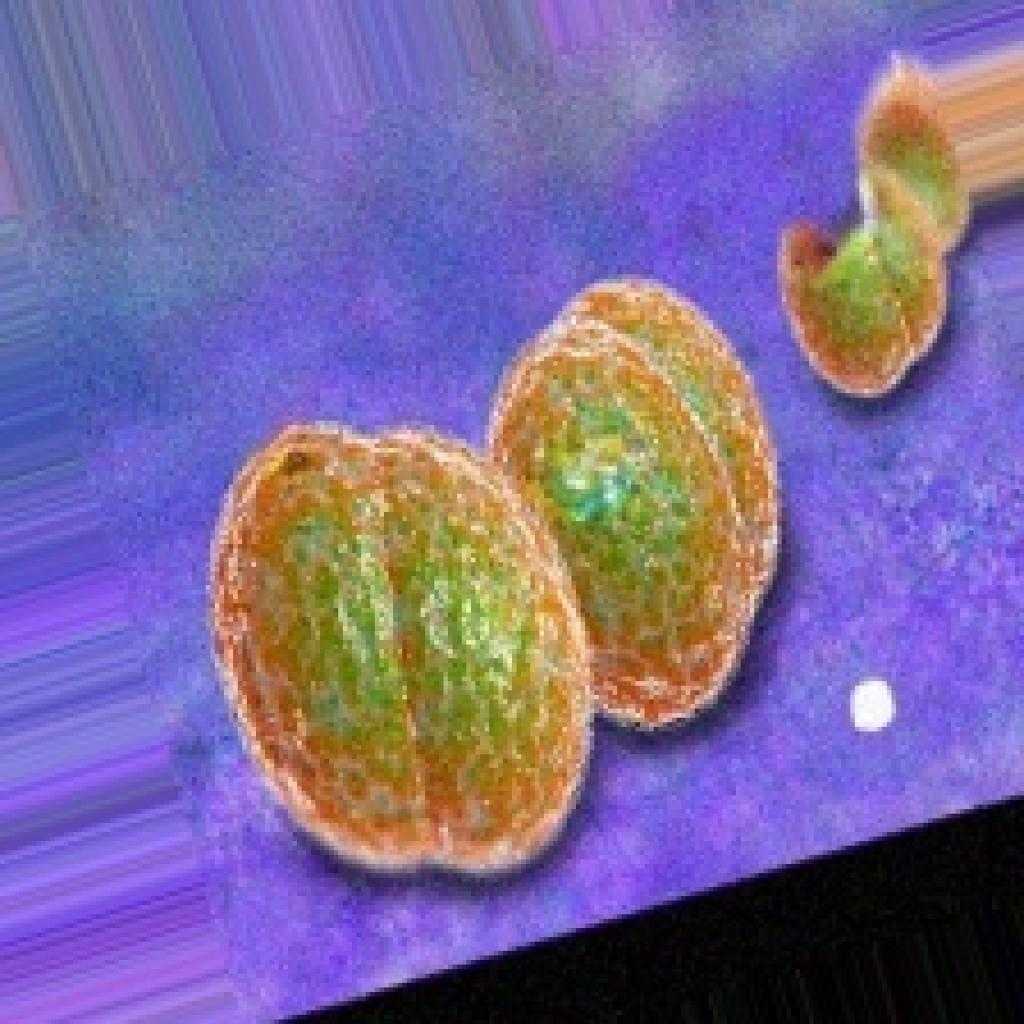Sphericalbacteria: (201, 416, 594, 878), (484, 270, 782, 731), (772, 46, 974, 398)
